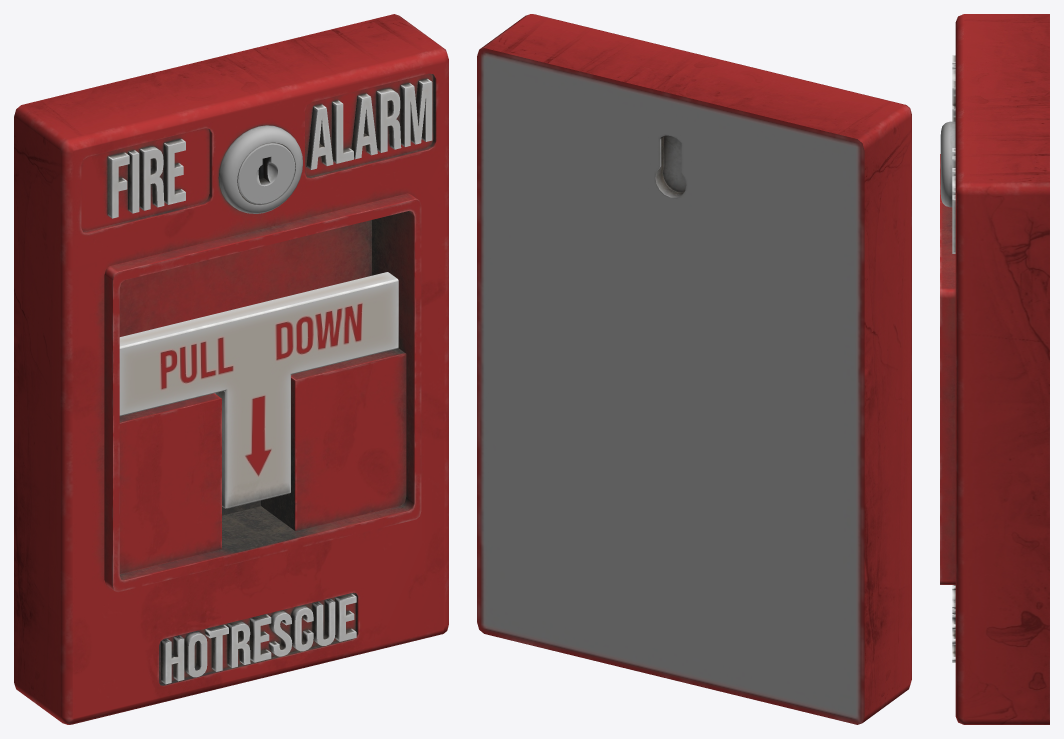
The model's file is fire_alarm.glb.
The picture shows the model from 3 angles, left to right: view 1: azimuth 30°, elevation 25°; view 2: azimuth 150°, elevation 25°; view 3: azimuth 270°, elevation 25°; orthographic projection. The views are drawn at different scales.
Visible parts, largest first — view 1: fire_alarm, fire_alarm_lever; view 2: fire_alarm; view 3: fire_alarm.
Part boxes in pixels (x1=…): fire_alarm: x1=14, y1=14, x2=448, y2=724; fire_alarm_lever: x1=119, y1=272, x2=398, y2=508; fire_alarm: x1=477, y1=14, x2=911, y2=724; fire_alarm: x1=940, y1=14, x2=1049, y2=724.
Size of the model in its own units: 0.0994 by 0.1436 by 0.0264.
Materials: 1 (1 with a texture image).
